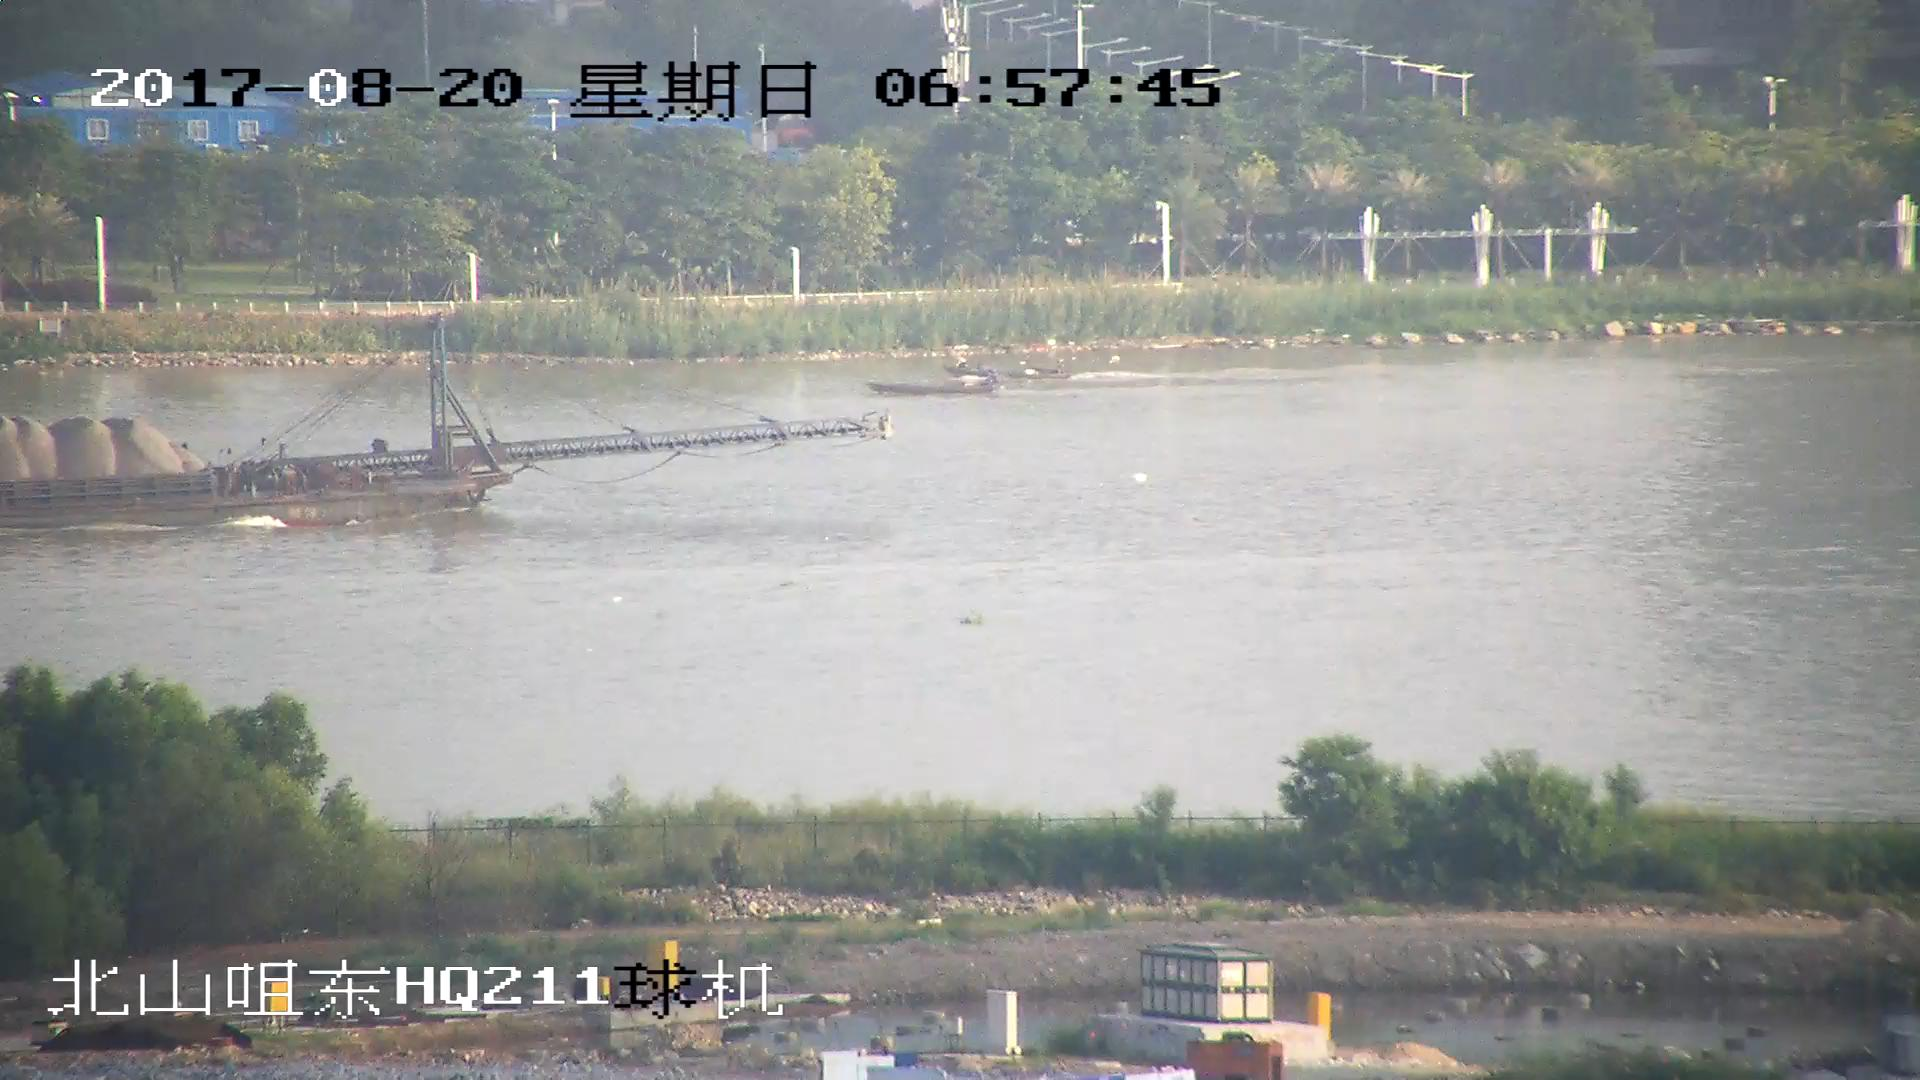fishing boat: (867, 365, 999, 399), (947, 350, 1072, 384)
ore carrier: (1, 320, 894, 528)
